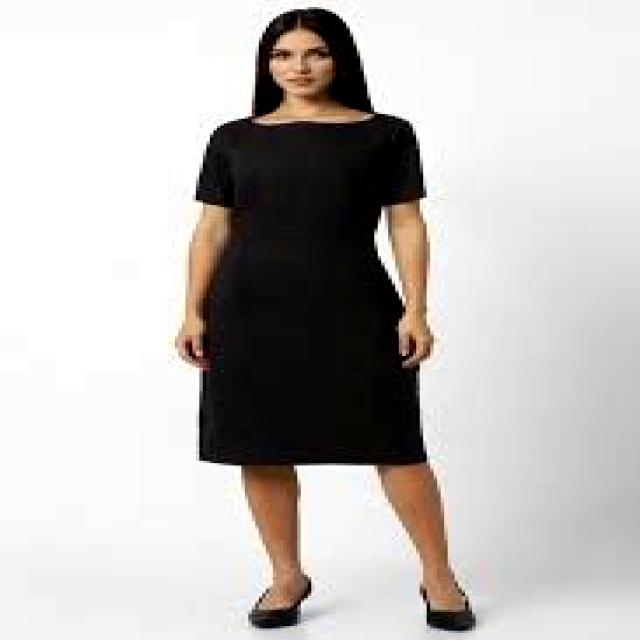dress: (196, 112, 426, 465)
